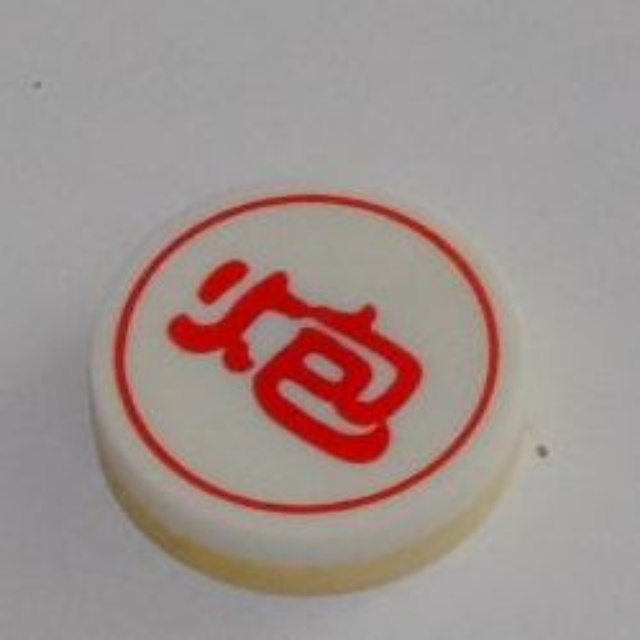red_phao: (82, 158, 537, 597)
